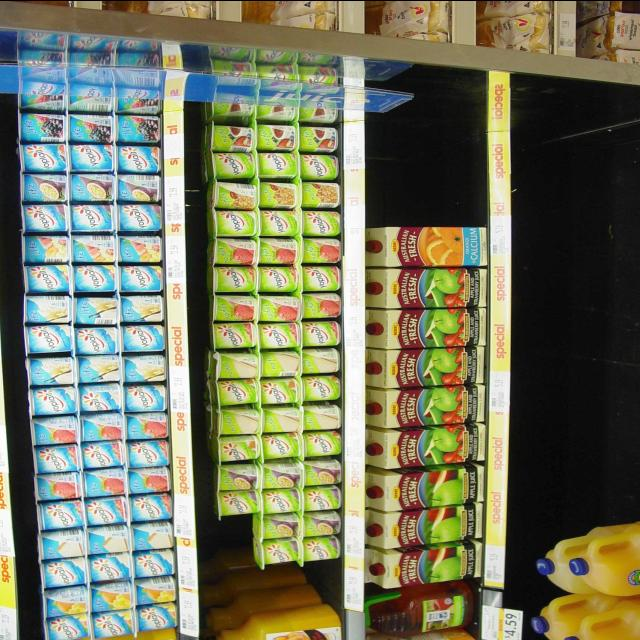empty_space: (523, 117, 637, 518), (379, 107, 473, 217), (217, 567, 331, 597)
